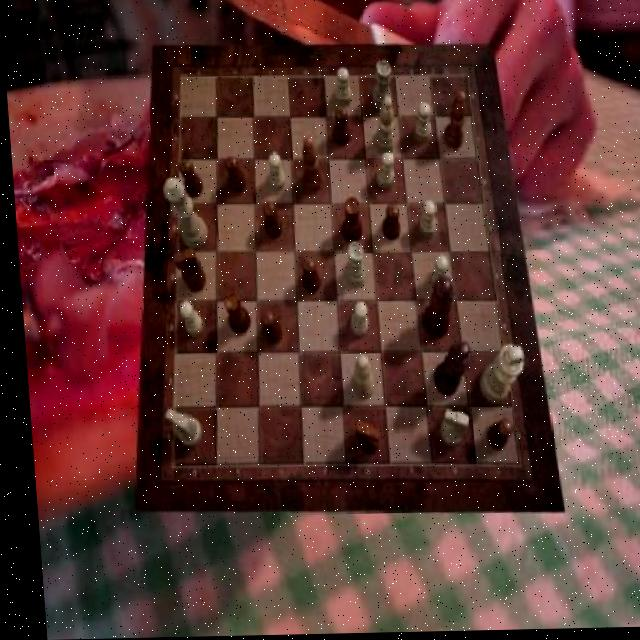bishop: (438, 94, 468, 153), (299, 138, 323, 194)
black-bishop: (427, 343, 469, 398)
black-king: (168, 249, 202, 293), (349, 421, 374, 456)
black-knight: (176, 160, 201, 198), (223, 158, 246, 196), (480, 421, 507, 452), (255, 311, 278, 346), (330, 108, 349, 148), (297, 259, 317, 296), (377, 206, 397, 242), (260, 202, 279, 239)
black-pawn: (417, 277, 454, 340)
black-queen: (221, 293, 248, 336), (338, 198, 361, 245)
black-rook: (372, 98, 396, 157), (346, 357, 369, 401)
white-bishop: (472, 347, 521, 406)
white-king: (159, 408, 197, 447), (432, 411, 464, 449)
white-knight: (174, 302, 199, 337), (414, 202, 434, 240), (413, 105, 432, 145), (332, 69, 351, 108), (344, 303, 364, 340), (426, 257, 446, 293), (265, 154, 283, 194), (373, 155, 392, 191)
white-pawn: (161, 178, 206, 251)
white-queen: (370, 63, 393, 112), (341, 243, 363, 290)
